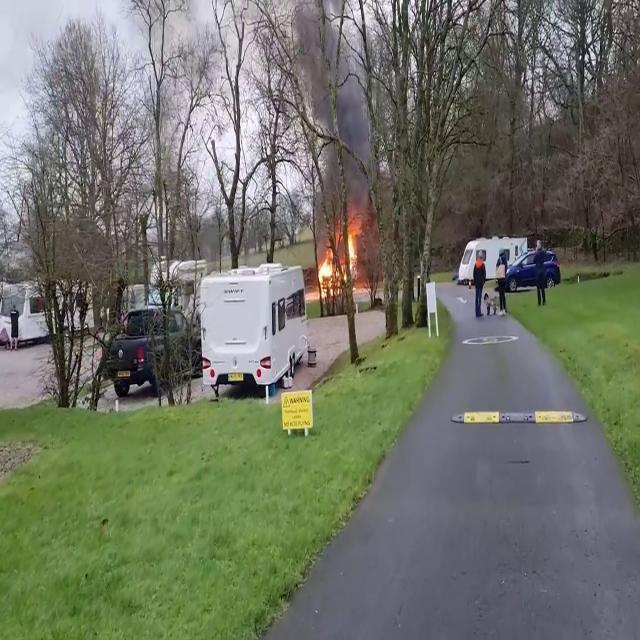Fire: (314, 209, 364, 298)
Smoke: (296, 5, 374, 226)
